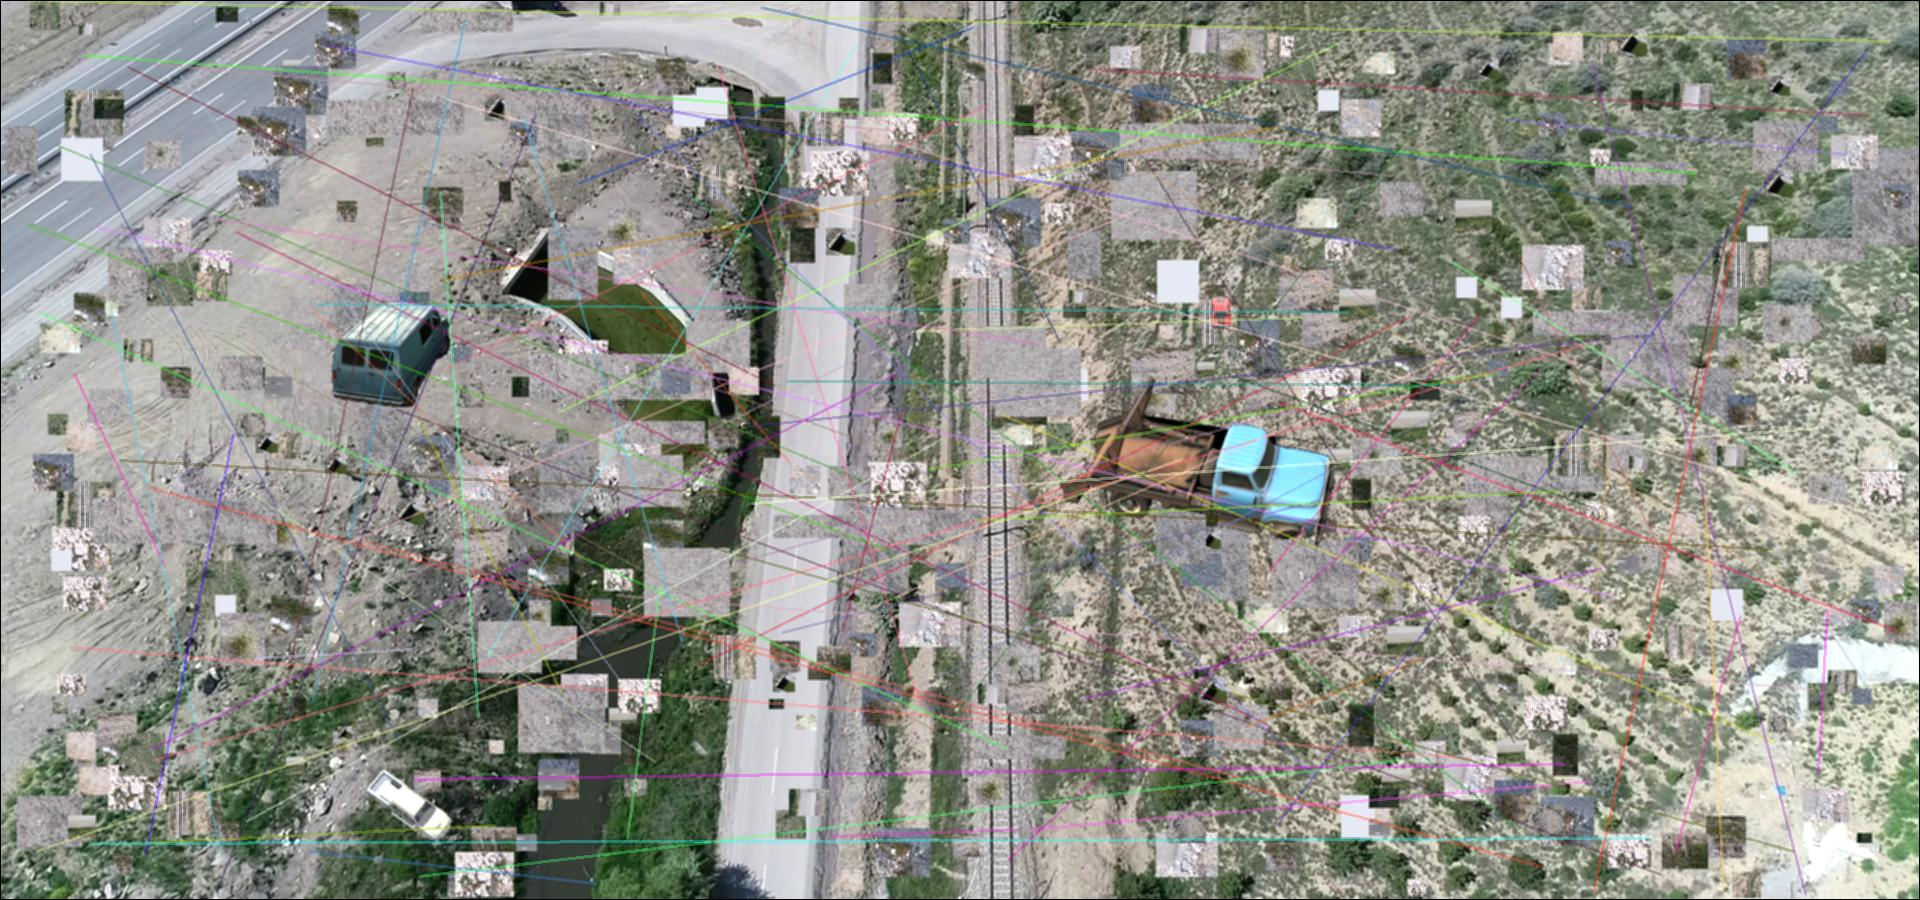arac: (1049, 370, 1335, 550), (328, 294, 454, 407), (361, 768, 454, 840), (1209, 296, 1232, 329)
